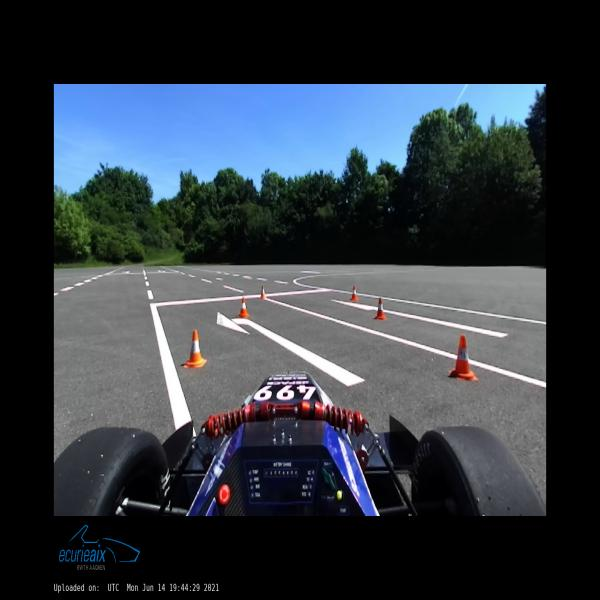orange_cone: (449, 335, 478, 381), (184, 330, 206, 367), (374, 298, 386, 319), (238, 298, 249, 318), (350, 286, 358, 300), (260, 286, 266, 298)
